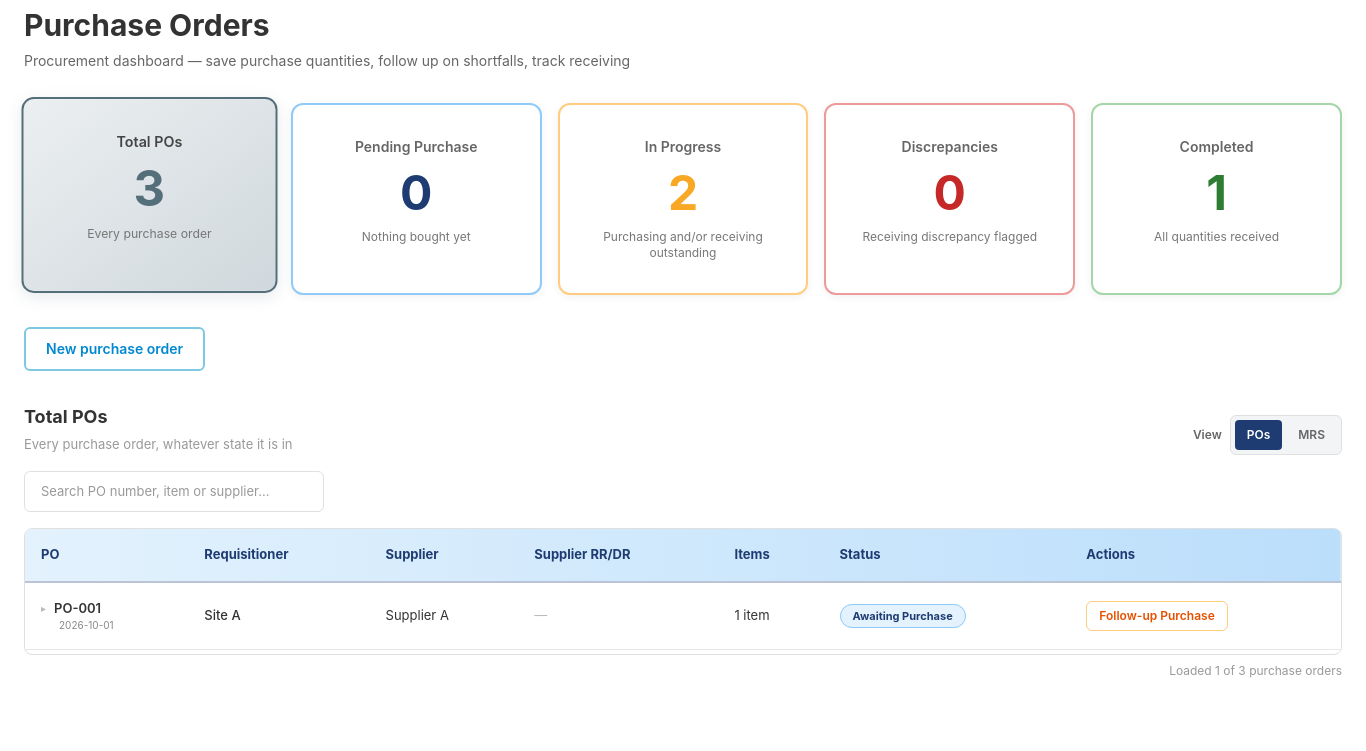
the supplier belongs to a purchase order, not to a material request › shows each purchase order with its own supplier once expanded
The width and height of the screenshot is (1366, 751).
expect the row named "Expand to see items and actions" is shown: met, box x1=25 y1=582 x2=1341 y2=650
Click the button "MRS".
click(1312, 434)  # box x1=1286 y1=420 x2=1337 y2=450
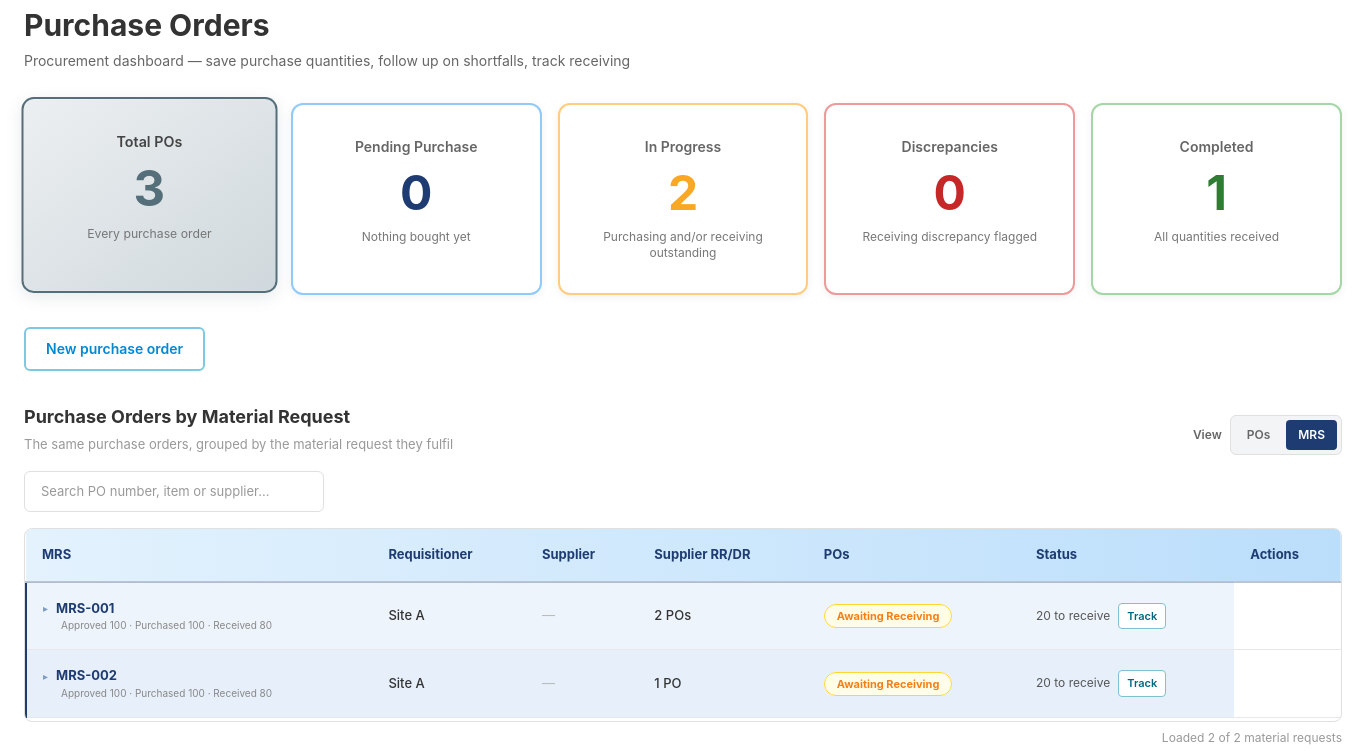
expect the text "MRS-001" is shown: met, box x1=56 y1=598 x2=114 y2=618
Click the row named "Expand to see its purchase orders".
click(684, 616)  # box x1=26 y1=582 x2=1341 y2=650
(page scrolled)
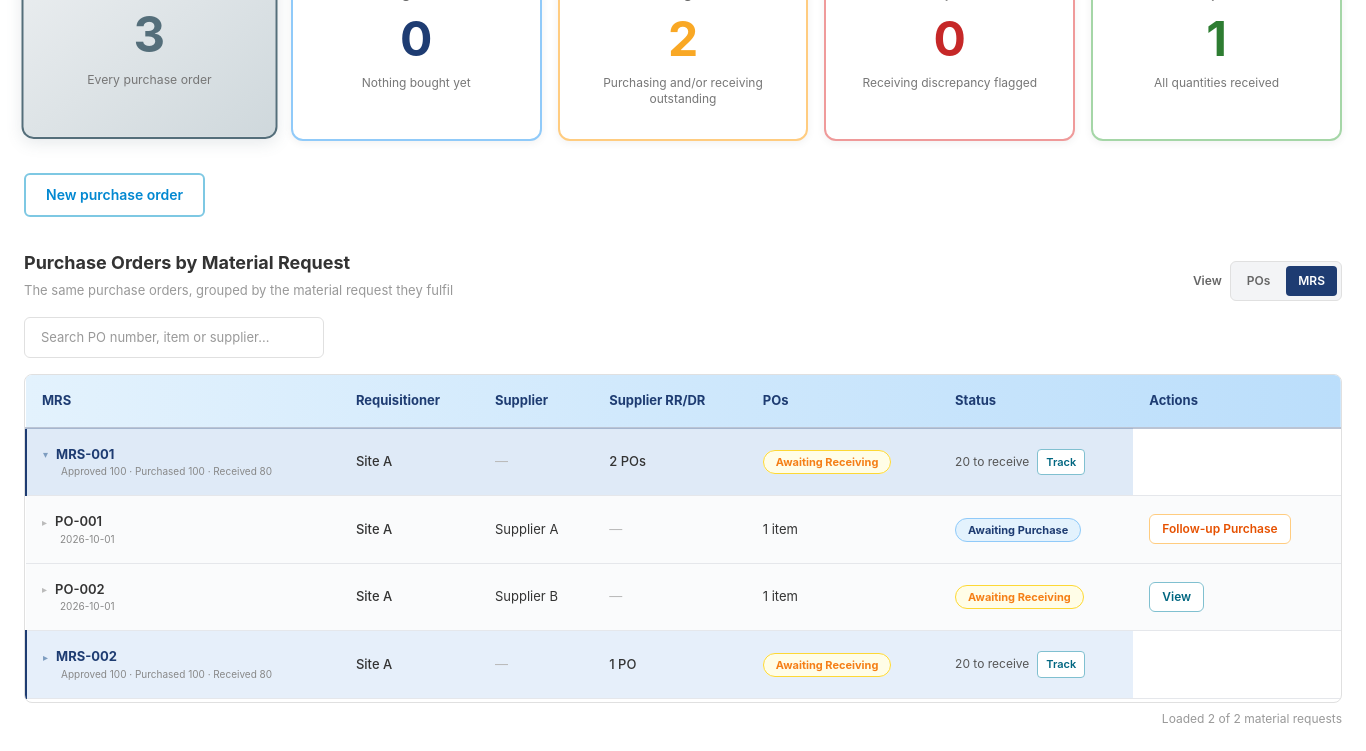
expect the row named "Expand to see items and actions" shows "PO-001": met, box x1=55 y1=513 x2=102 y2=529
expect the row named "Expand to see items and actions" shows "Supplier A": met, box x1=495 y1=520 x2=558 y2=536
expect the row named "Expand to see items and actions" shows "PO-002": met, box x1=55 y1=580 x2=105 y2=596
